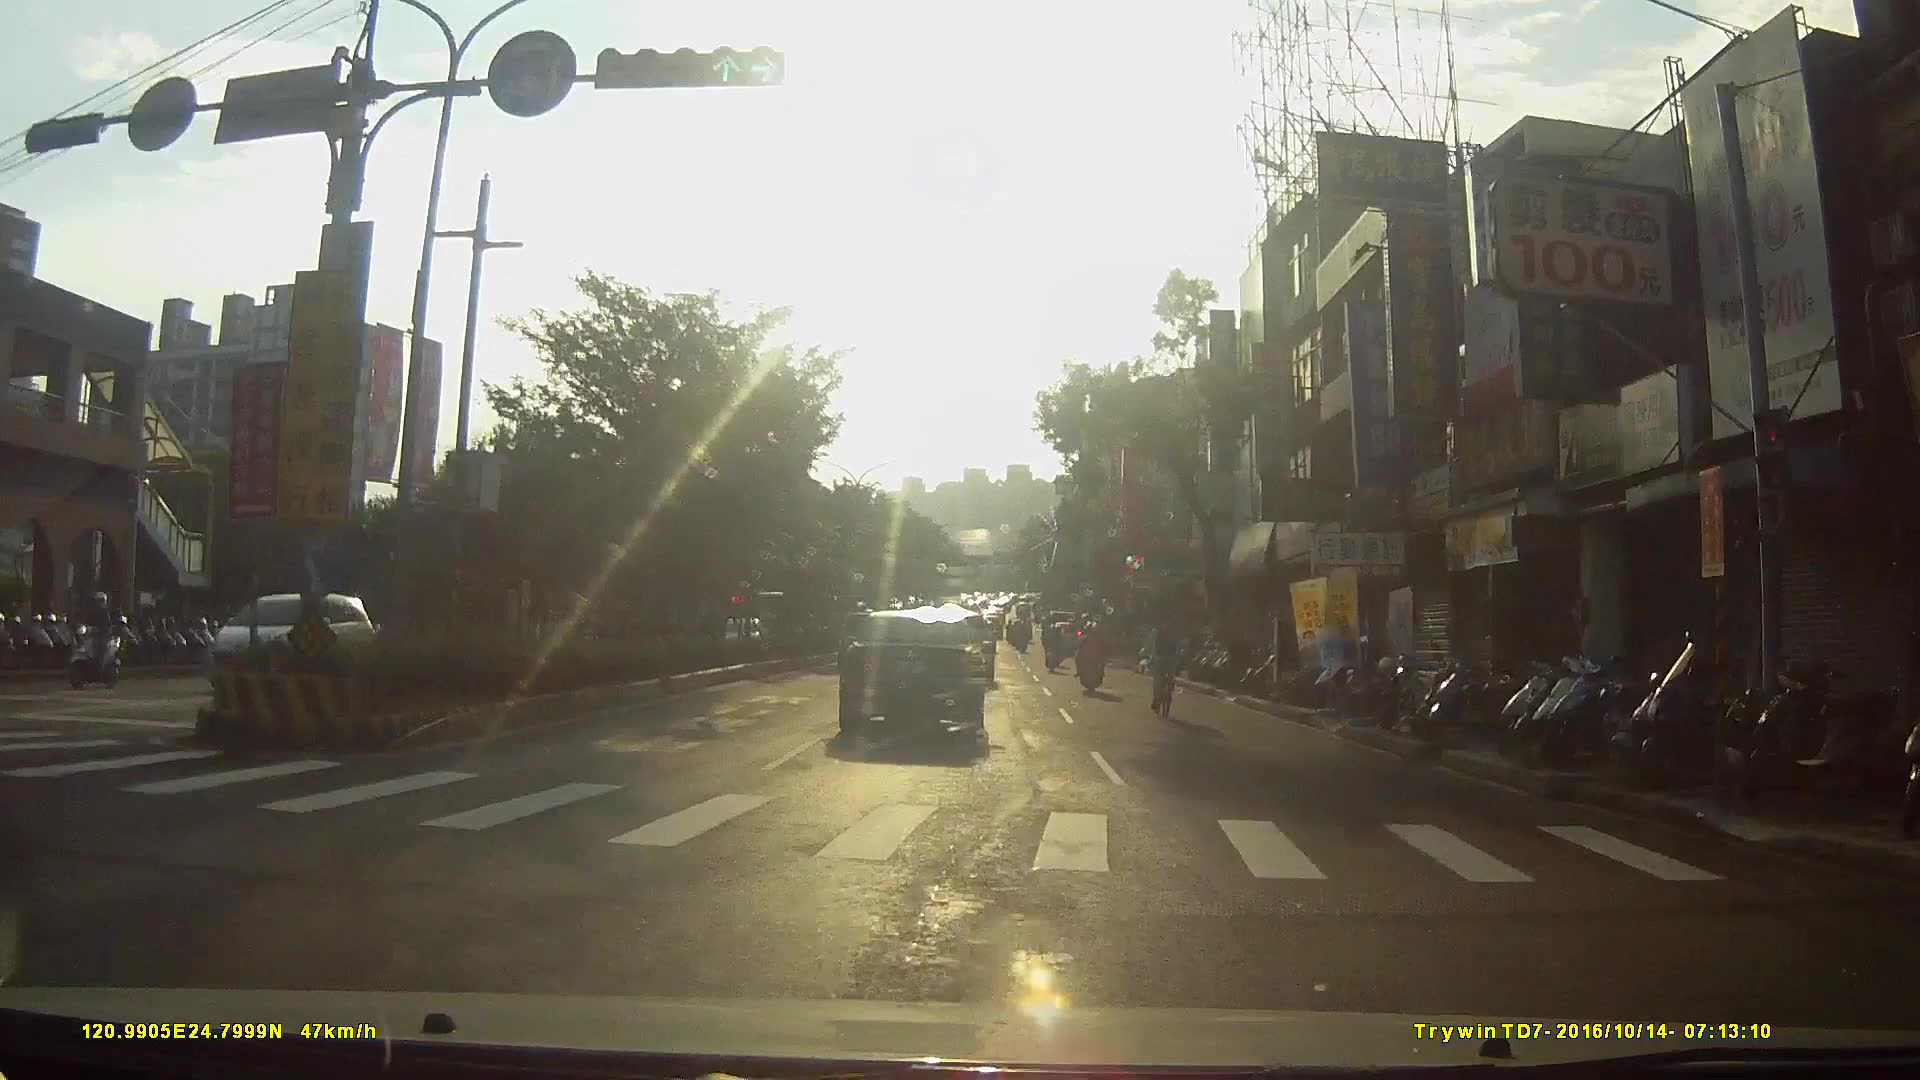rider: (70, 591, 126, 689), (1140, 609, 1189, 719), (1077, 622, 1108, 695), (1041, 623, 1066, 673)
vehicle: (839, 606, 998, 749), (195, 589, 385, 695)
